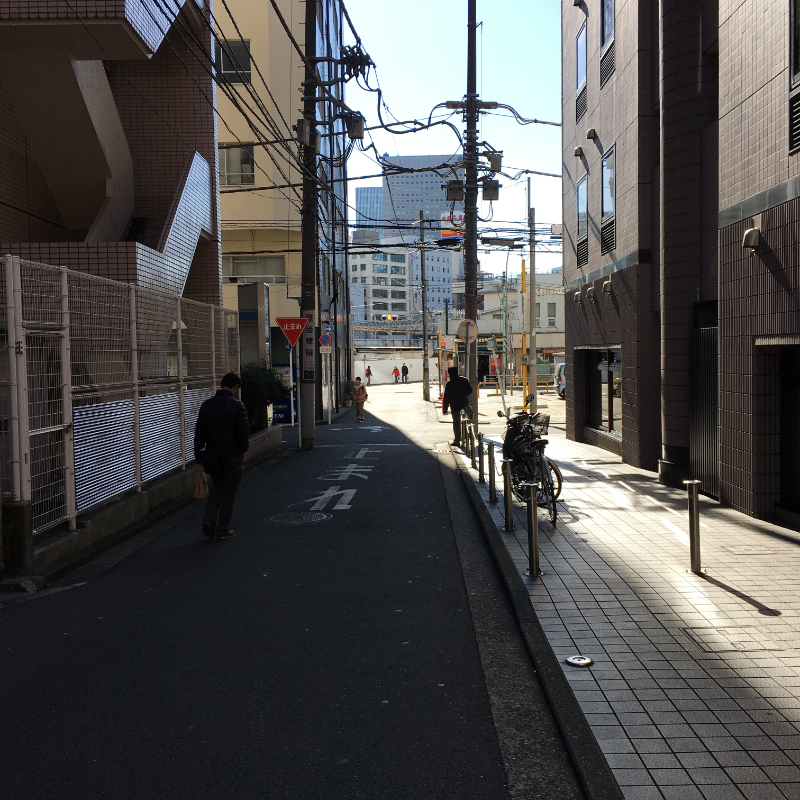STOP: (271, 314, 310, 350)
